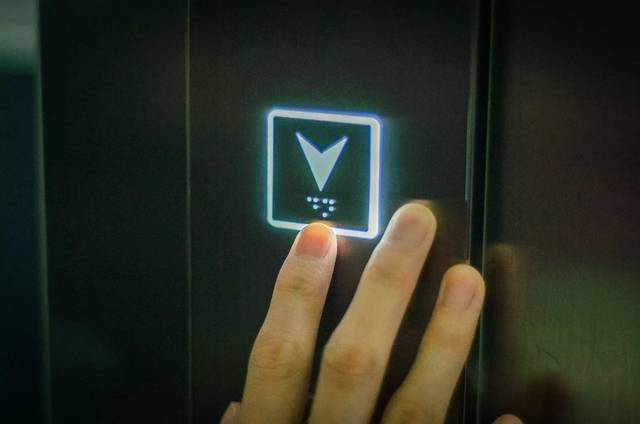Braille: (322, 196, 337, 218), (307, 195, 318, 217)
